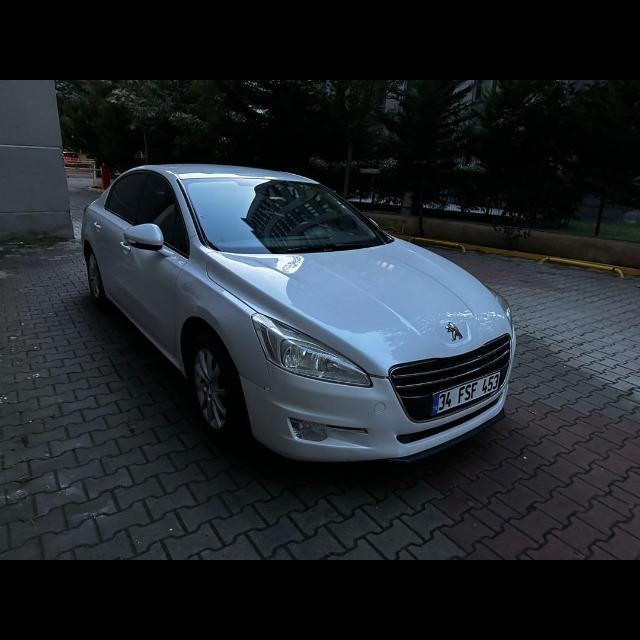Plaka: (431, 368, 501, 416)
